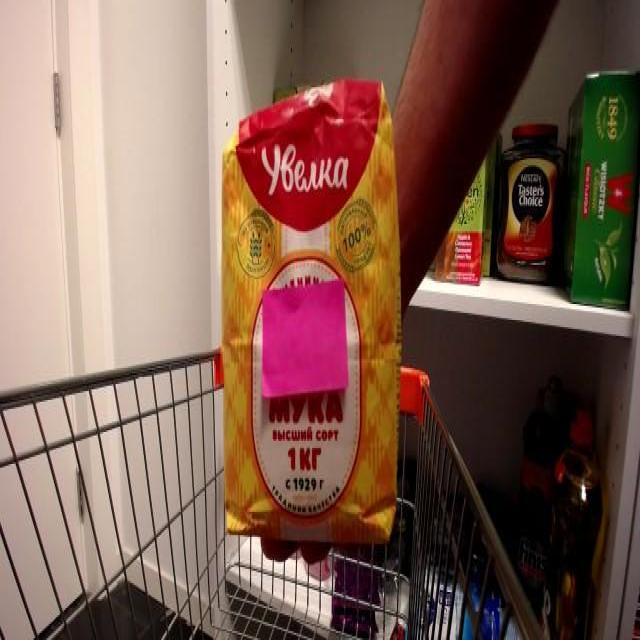Almond Milk: (217, 73, 408, 553)
